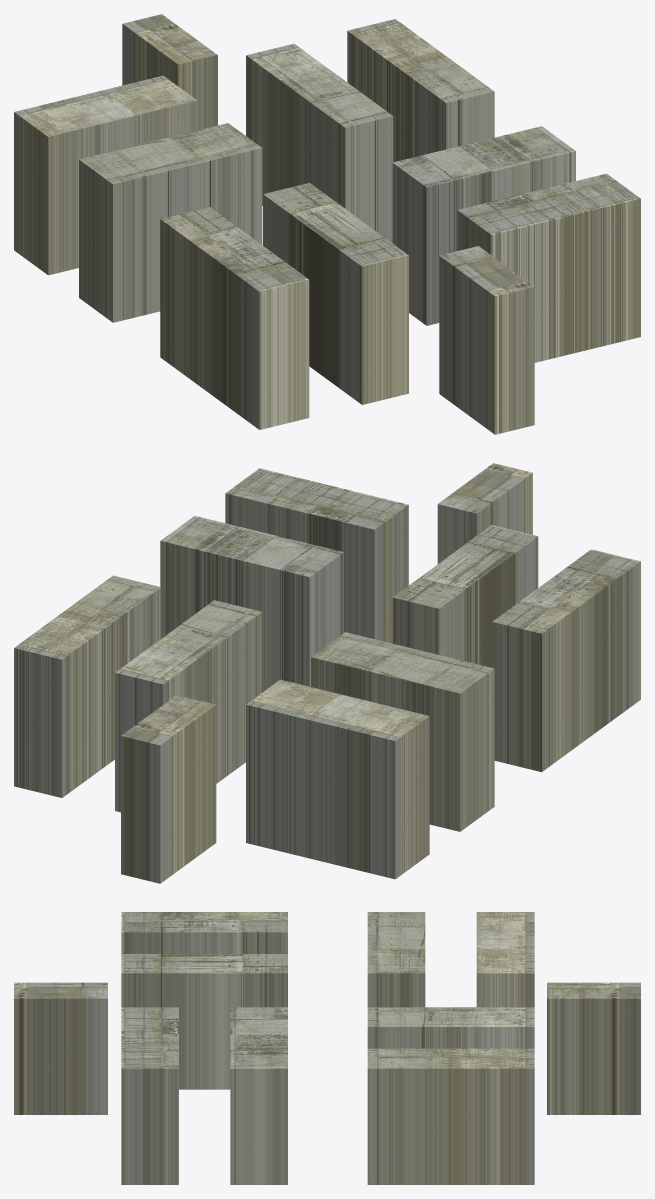
File: SM_LDFest_02_SHADOW.004.fbx
The picture shows the model from 3 angles, top to bottom: view 1: azimuth 30°, elevation 25°; view 2: azimuth 150°, elevation 25°; view 3: azimuth 270°, elevation 25°; orthographic projection. The views are drawn at different scales.
Parts seen in each view (by area): view 1: SM_LDFest_02_SHADOW.004; view 2: SM_LDFest_02_SHADOW.004; view 3: SM_LDFest_02_SHADOW.004.
Boxes of the visible parts, left/top/right/bottom form: SM_LDFest_02_SHADOW.004: left=14, top=14, right=640, bottom=434; SM_LDFest_02_SHADOW.004: left=14, top=463, right=640, bottom=883; SM_LDFest_02_SHADOW.004: left=14, top=912, right=640, bottom=1184.
Bounding box in the file's own units: 2519 × 873 × 4263.
